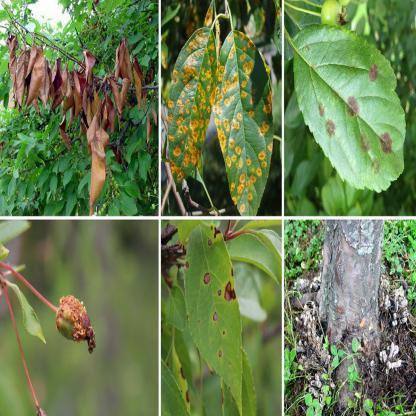Apple rust leaf: (162, 4, 282, 214)
